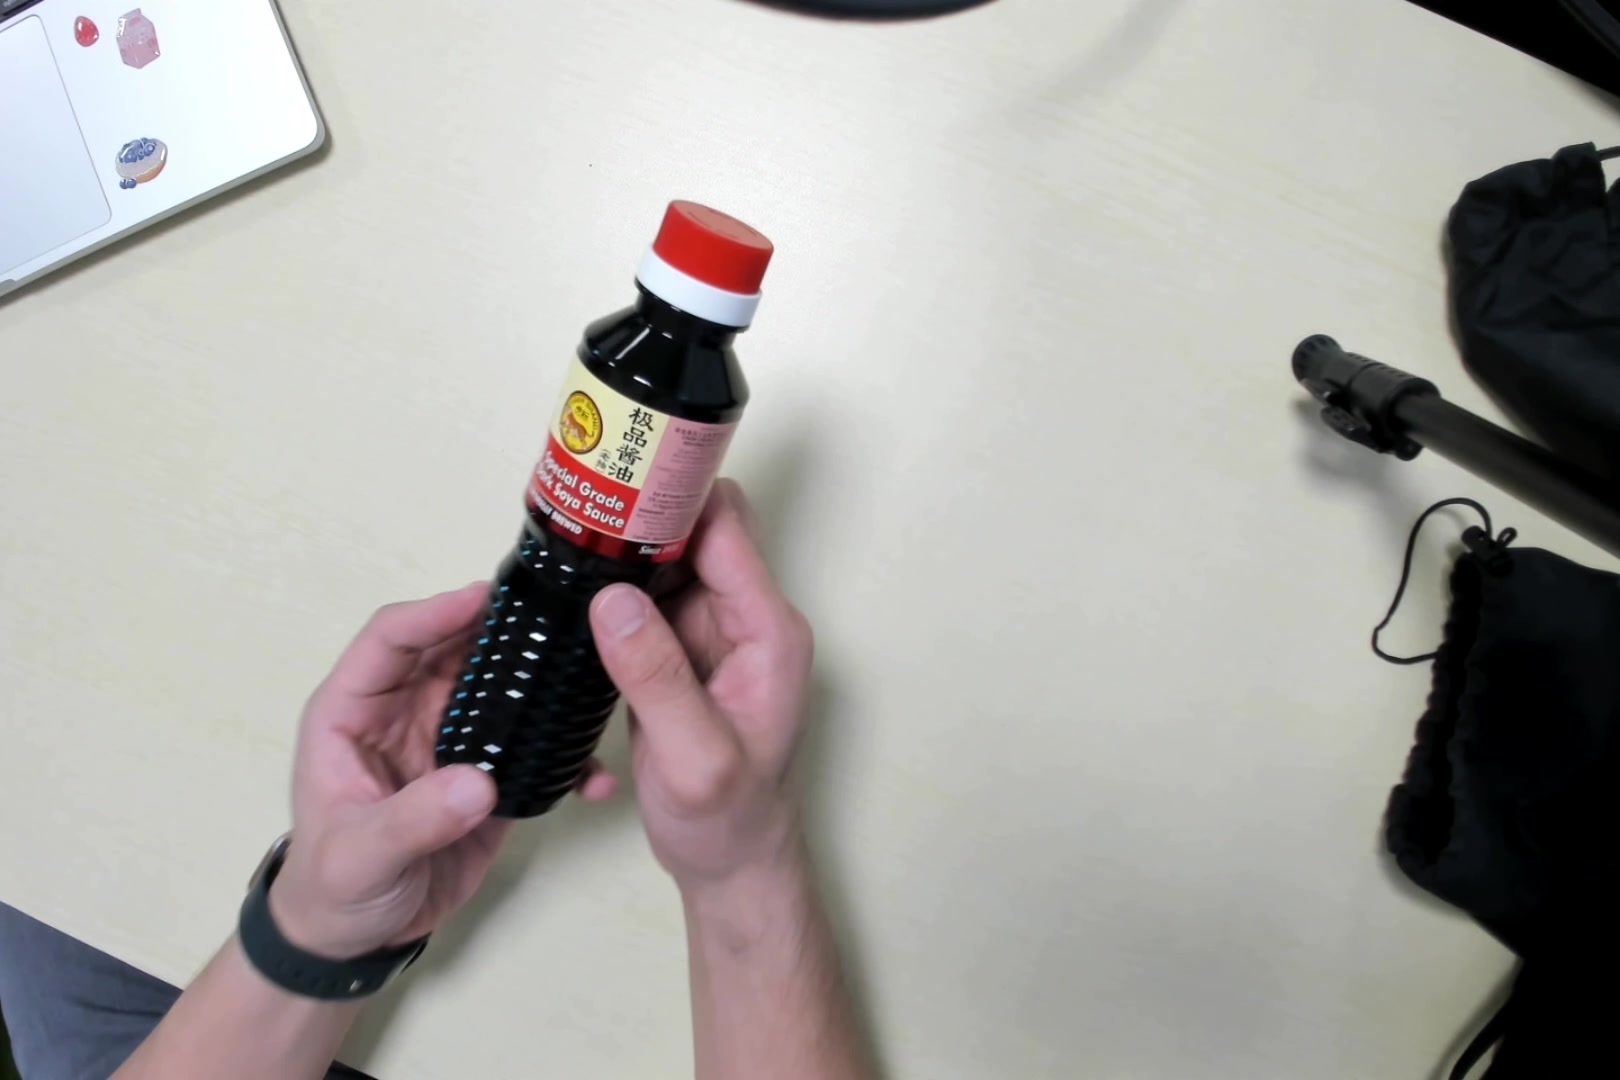LightSoySauce_300-399g_Halal_NonHealthy: (436, 199, 779, 816)
